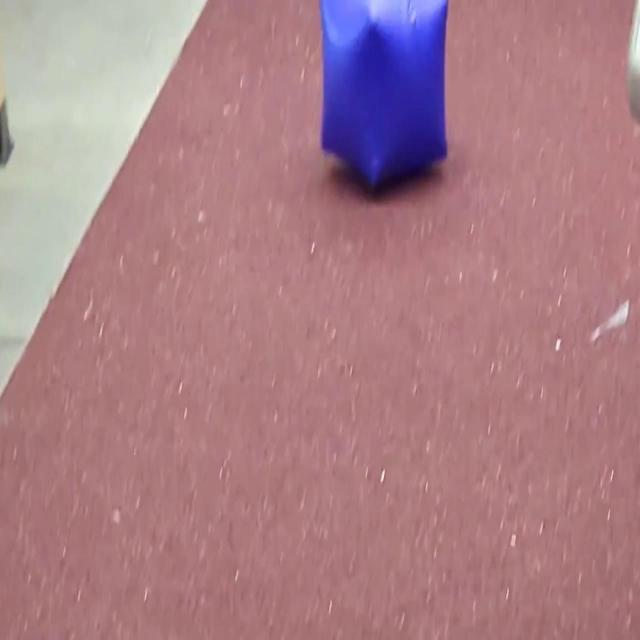frc_cube: (321, 0, 449, 192)
